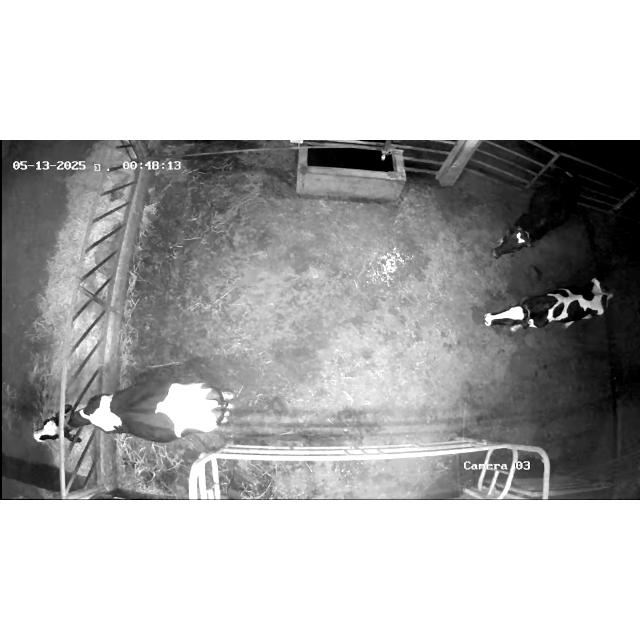stand: (491, 169, 581, 259), (484, 278, 613, 332)
